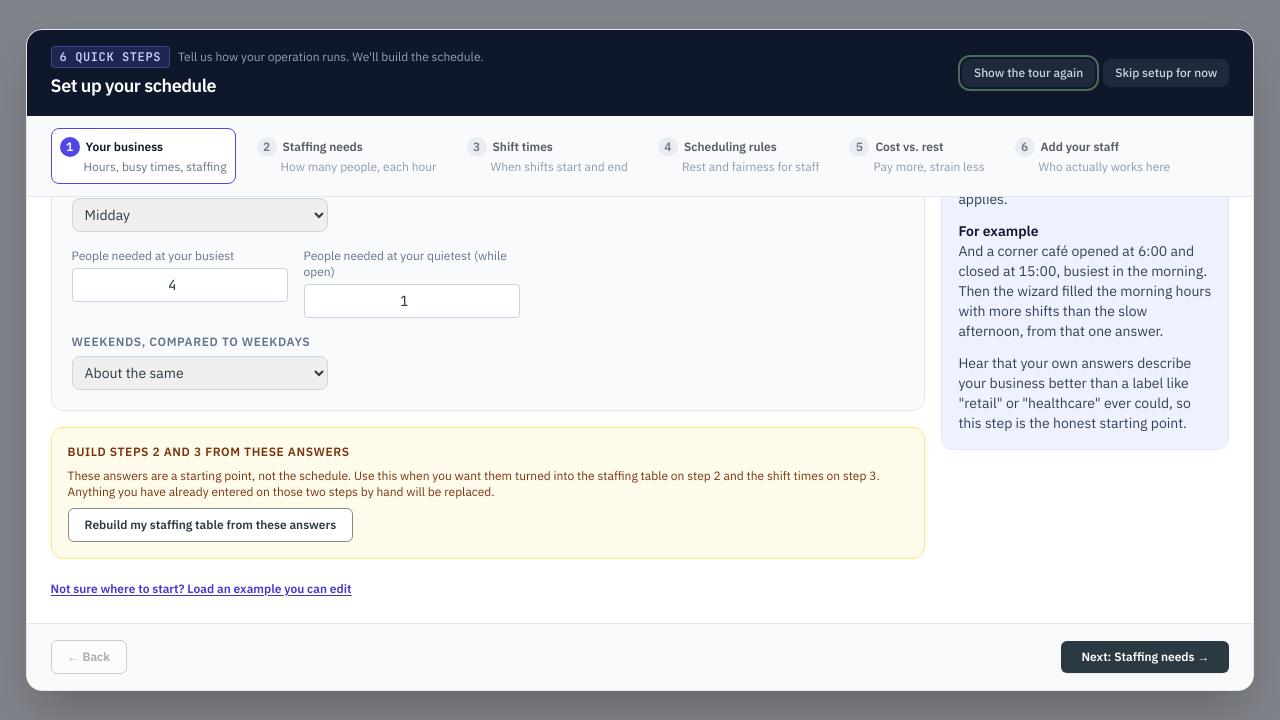
it: OnboardingWizard preset solve failures › deep links from the failure to the step holding the remedy
(page scrolled)
Click the button "Not sure where to start? Load an example you can edit" at (201, 589), box [51, 581, 352, 597]
(page scrolled)
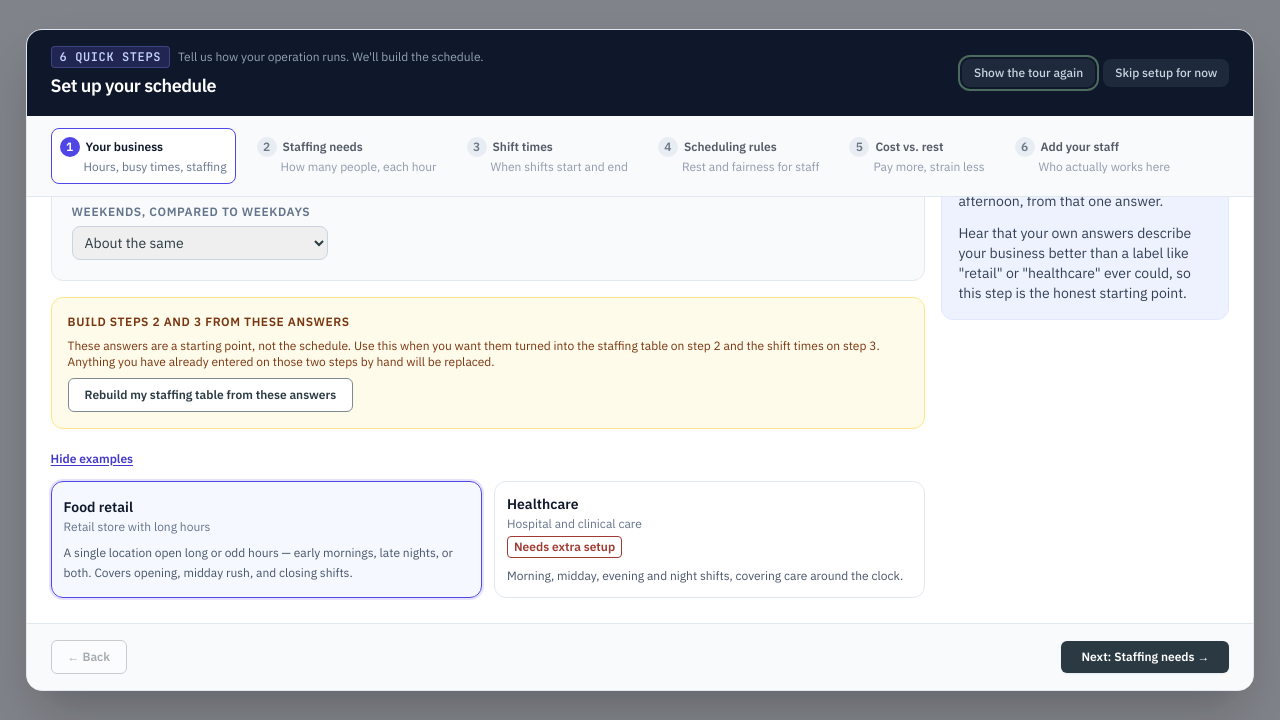
Click the button "Healthcare" at (543, 504), box [494, 481, 925, 598]
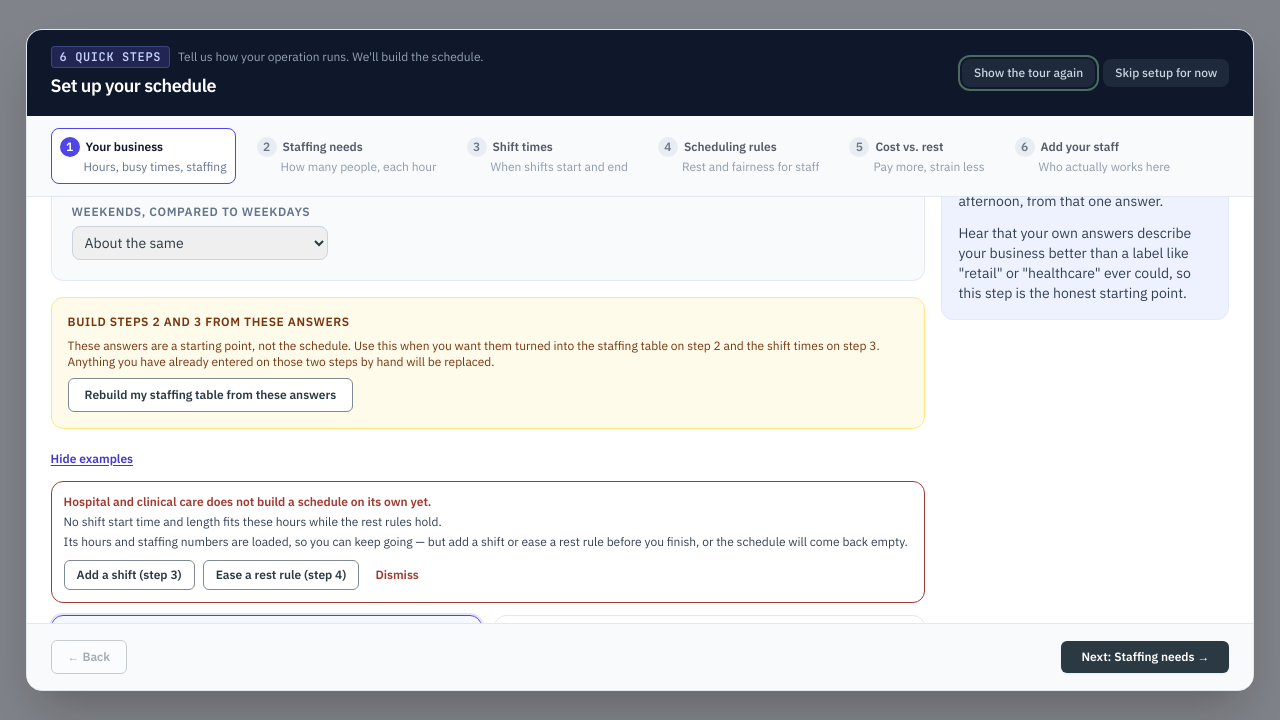
Click the button "Add a shift (step 3)" at (129, 575), box [64, 560, 195, 590]
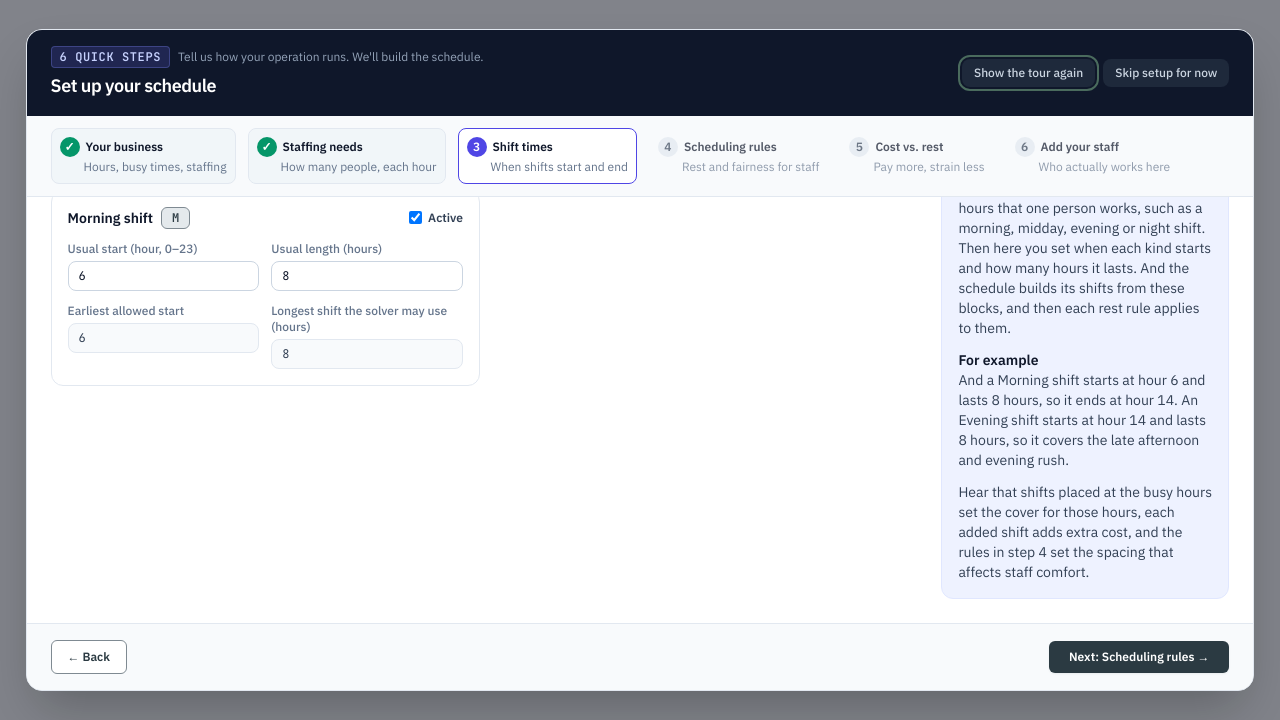
Now the message is gone
